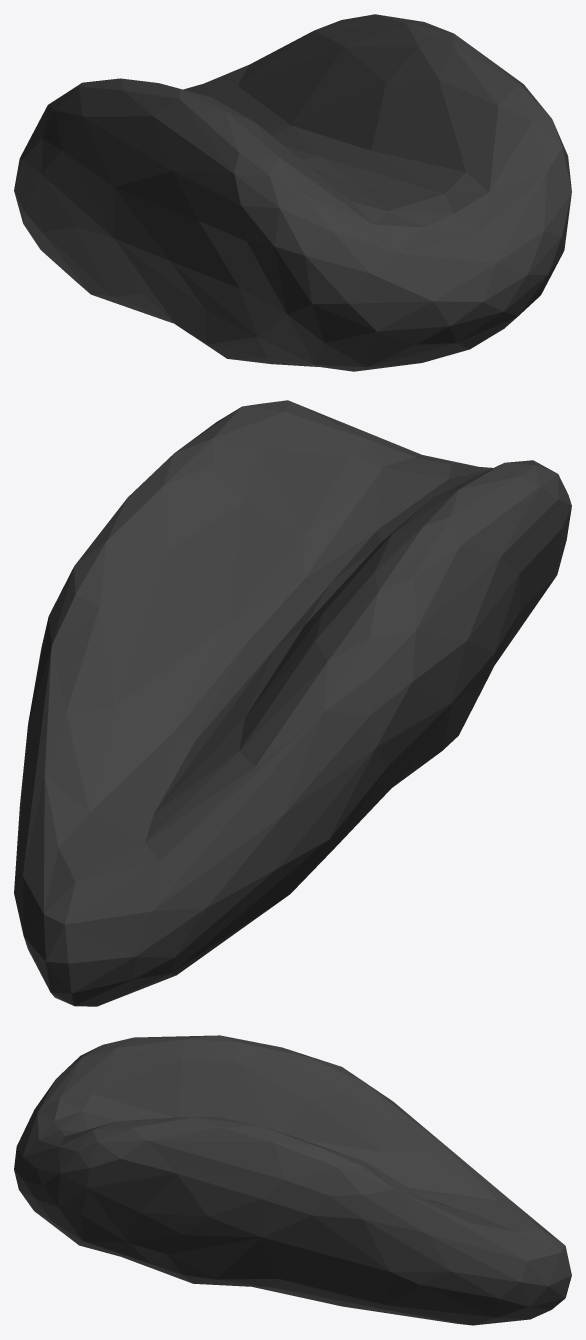
Rendered from details_nose_area.glb.
The picture shows the model from 3 angles, top to bottom: view 1: azimuth 30°, elevation 25°; view 2: azimuth 150°, elevation 25°; view 3: azimuth 270°, elevation 25°; orthographic projection. The views are drawn at different scales.
Visible parts, largest first — view 1: details_nose_area; view 2: details_nose_area; view 3: details_nose_area.
Boxes of the visible parts, x1,y1,x2,y2 form: details_nose_area: (14,14,571,371); details_nose_area: (14,400,571,1006); details_nose_area: (14,1035,571,1325).
Size of the model in its own units: 0.000641 by 0.000632 by 0.00131.
Materials: 1 (1 with a texture image).
